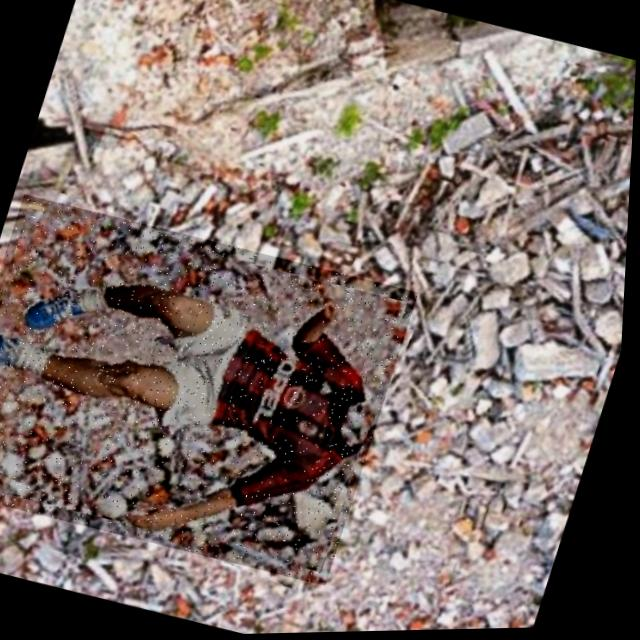Person in Rubble: (0, 186, 424, 593)
